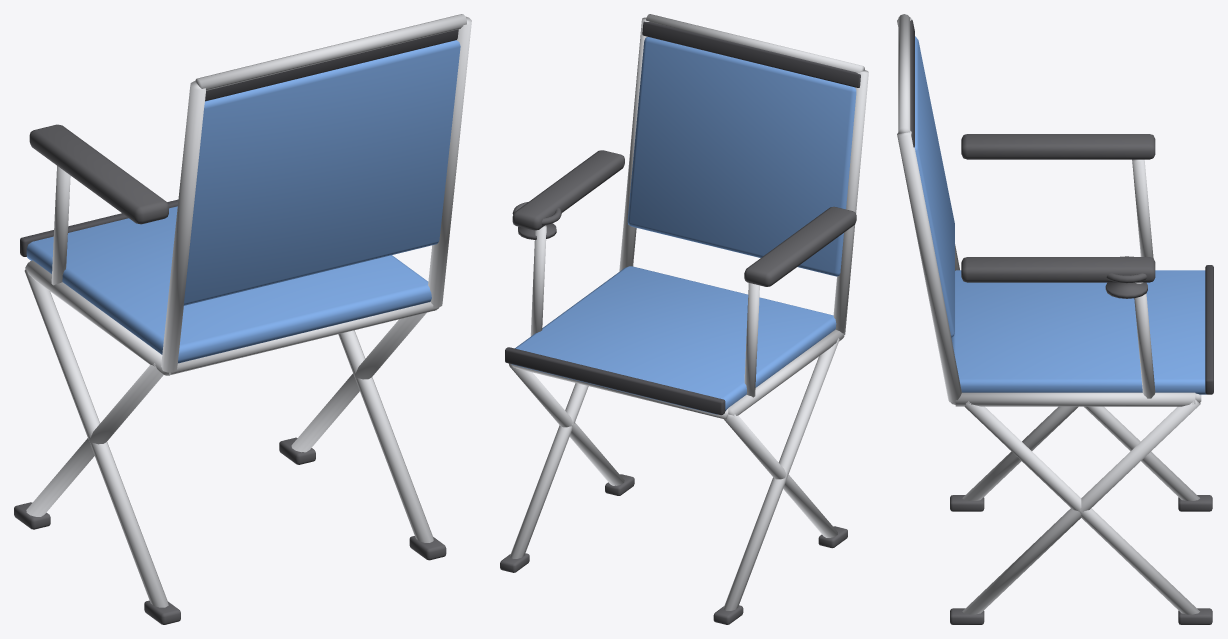
The model's file is campingstuhl.glb.
The picture shows the model from 3 angles, left to right: view 1: azimuth 30°, elevation 25°; view 2: azimuth 150°, elevation 25°; view 3: azimuth 270°, elevation 25°; orthographic projection. The views are drawn at different scales.
Visible parts, largest first — view 1: Stuhl; view 2: Stuhl; view 3: Stuhl.
Part boxes in pixels (<box>): Stuhl: <box>14,14,471,624</box>; Stuhl: <box>500,14,868,624</box>; Stuhl: <box>897,14,1213,624</box>.
Size of the model in its own units: 0.587 by 0.956 by 0.5553.
